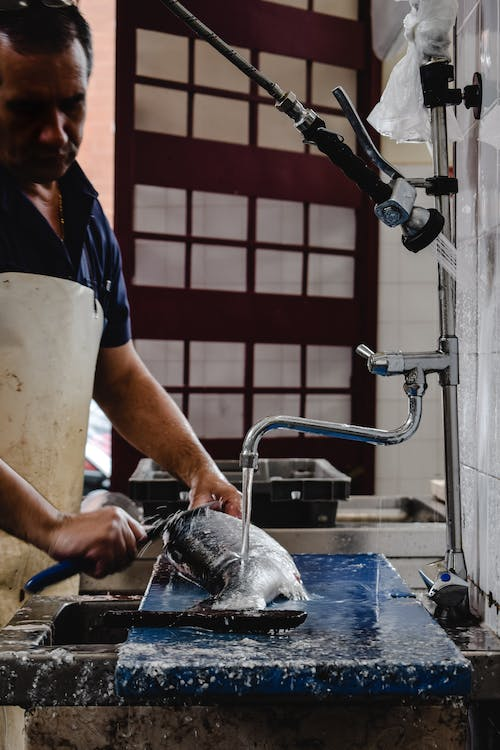knife: (22, 496, 226, 601)
